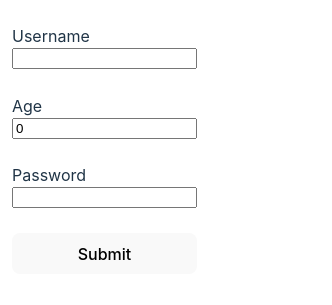
Test: SubscribeForm › should show username error if no username is provided
Click the button "Submit": (104, 254) [12, 233, 197, 274]
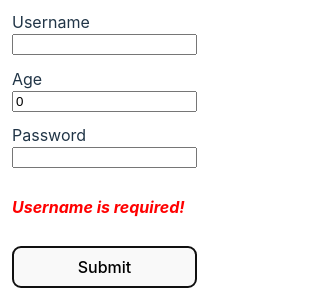
Result: the text "Username is required!" is shown at [12, 195, 197, 219]
